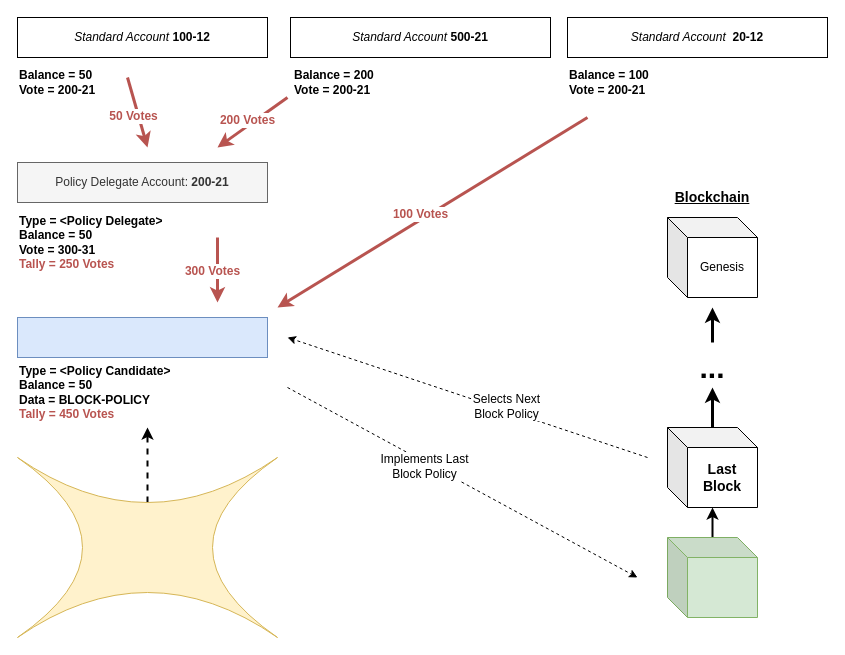
This 845x655 diagram has some shape labels left out. The shapes that lost their labels are listed below. From the top down, each one's box as (x1, y1, x2, y2) in pixels, then its label:
(16, 316, 268, 358): Policy Candidate Account: 300-31
(16, 456, 278, 638): elected policy
(666, 536, 758, 618): Next Block
